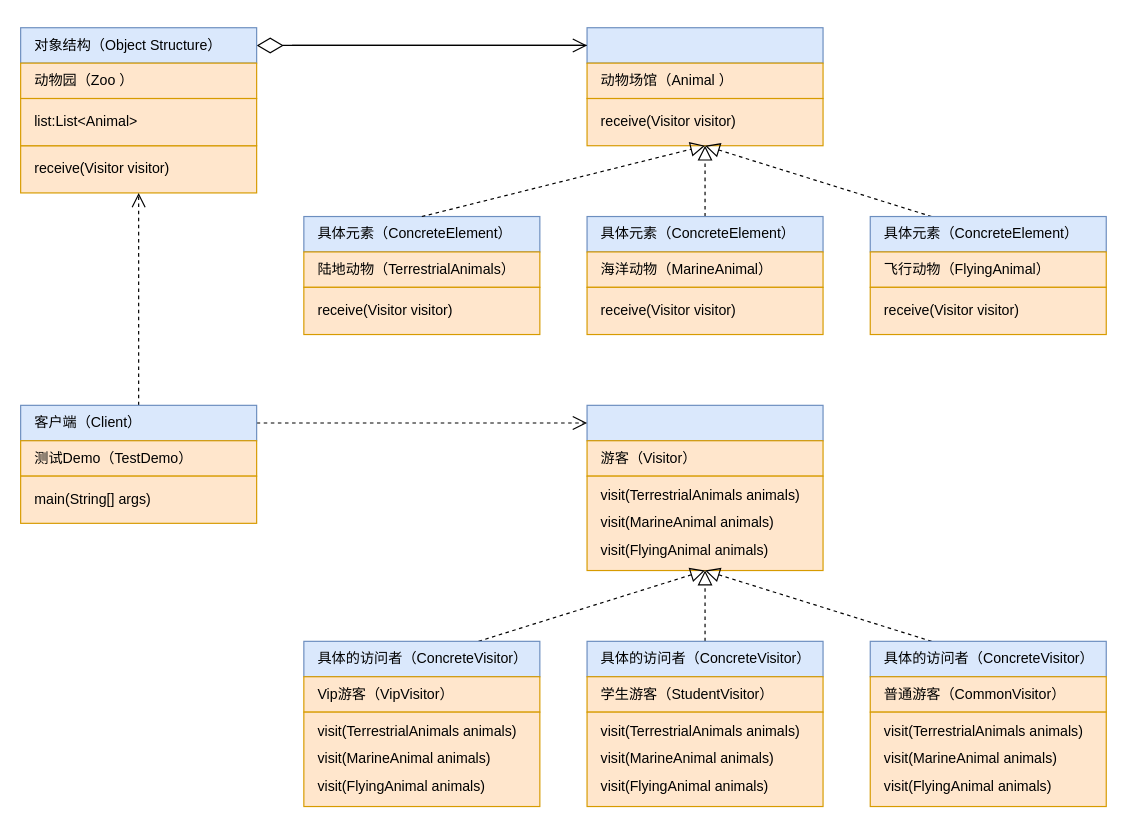
This 1127x834 diagram has some shape labels left out. The centre of each missing label's shape, as x and y in pixels:
"抽象元素（Element）" goes at point 704,45.
"抽象访问者（Visitor）" goes at point 704,422.
